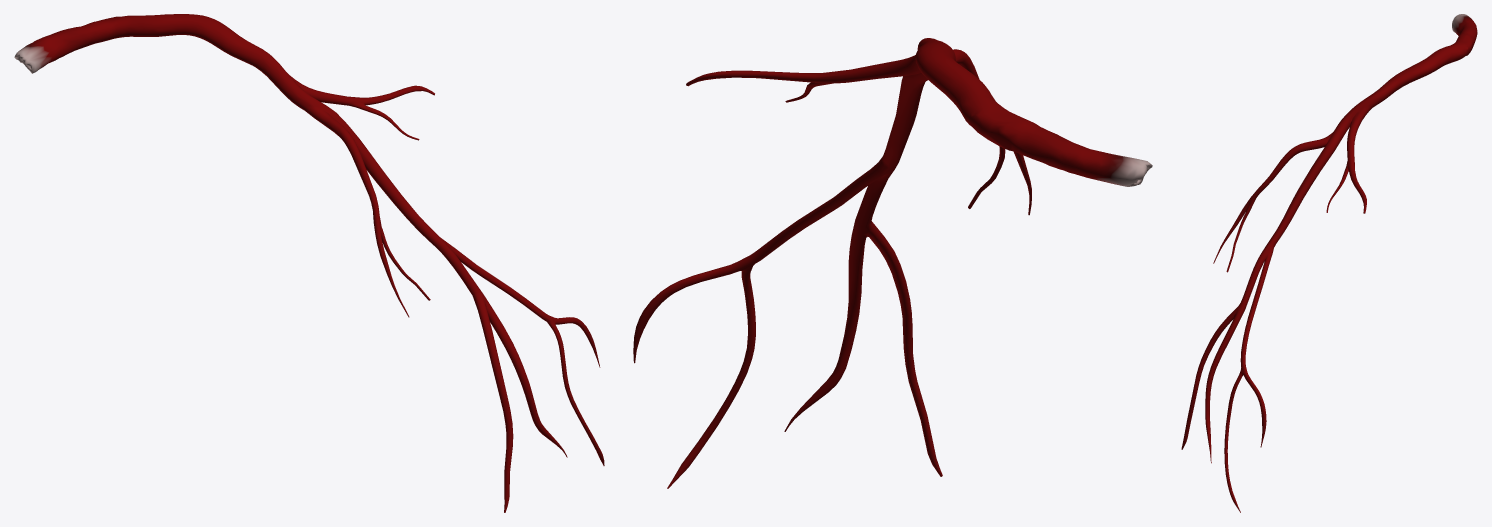
File: VeiaVermelha1.fbx
3 views of the same model, side by side, from view 1: azimuth 30°, elevation 25°; view 2: azimuth 150°, elevation 25°; view 3: azimuth 270°, elevation 25° (orthographic). The views are drawn at different scales.
Parts seen in each view (by area): view 1: arteries_1; view 2: arteries_1; view 3: arteries_1.
Part boxes in pixels (x1,y1,x2,y2): arteries_1: [14, 14, 604, 512]; arteries_1: [633, 38, 1152, 488]; arteries_1: [1181, 14, 1477, 512].
Bounding box in the file's own units: 0.6658 × 0.6067 × 0.4763.
